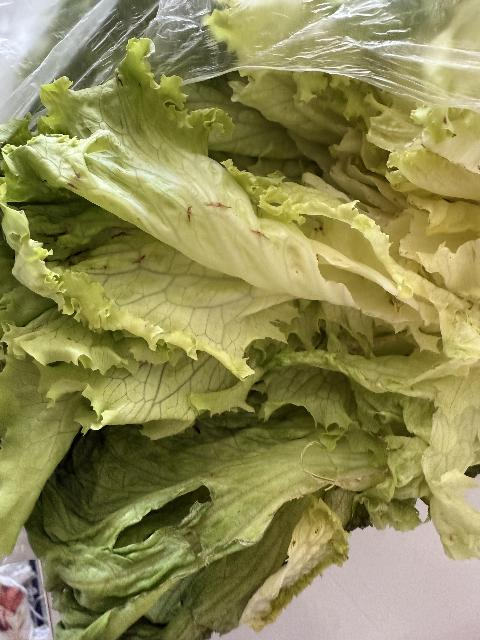Organik: (11, 63, 422, 341), (46, 392, 403, 590)
Plastik: (148, 3, 480, 103)
